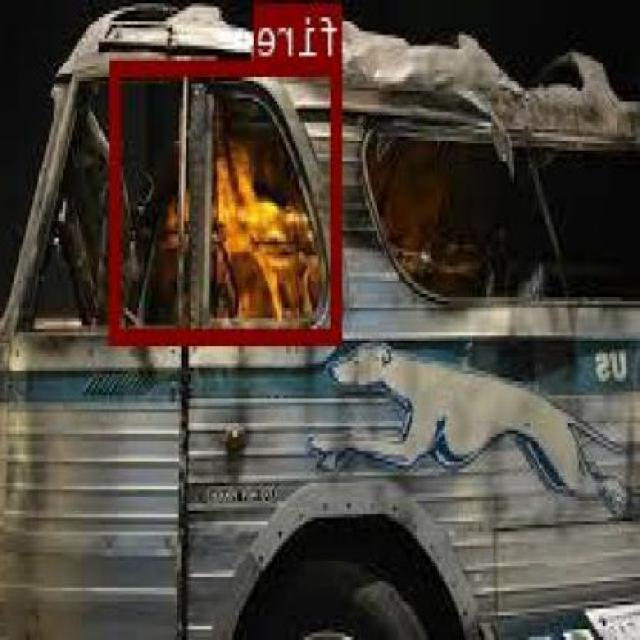Fire: (113, 56, 344, 342)
